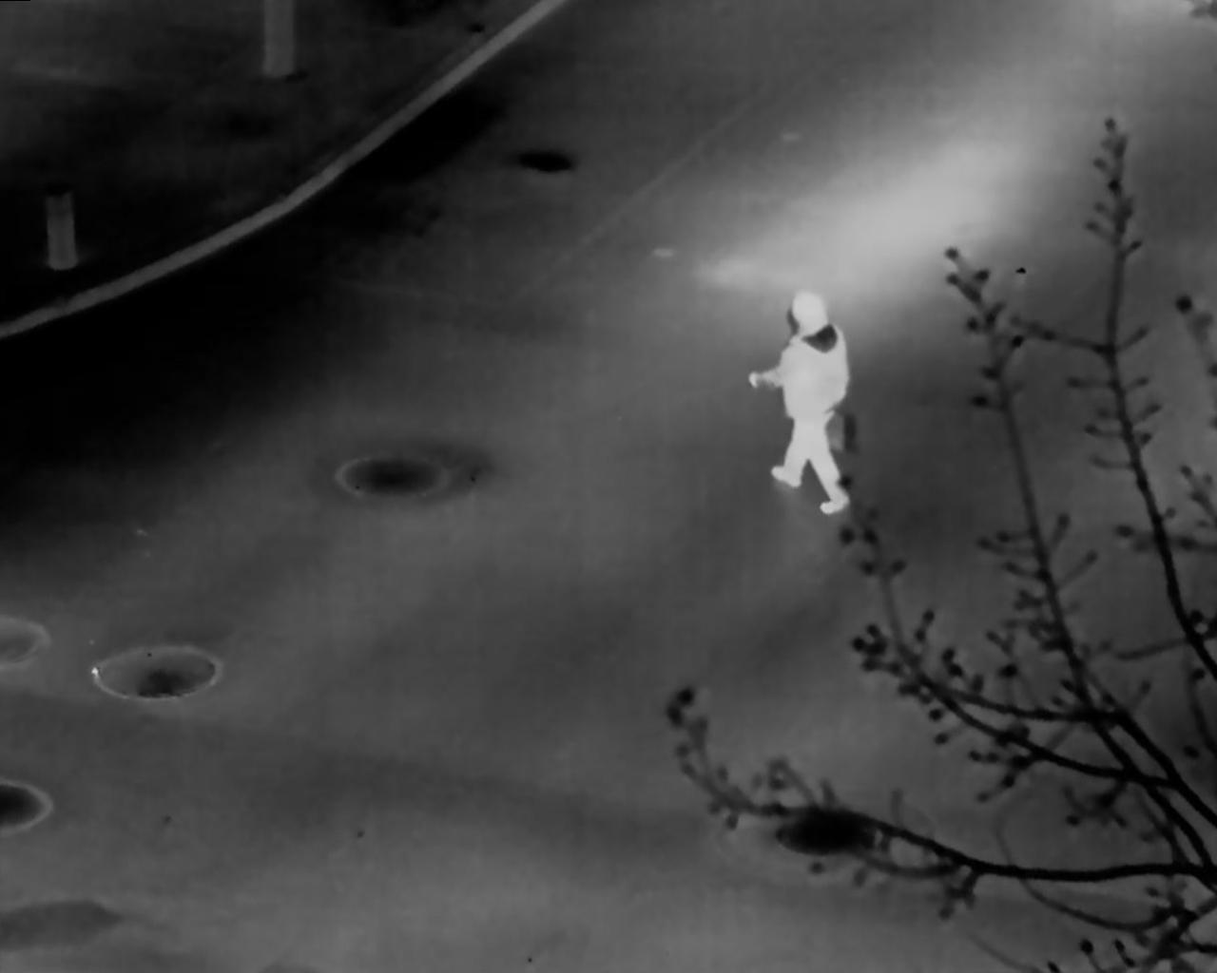person: (745, 292, 853, 516)
